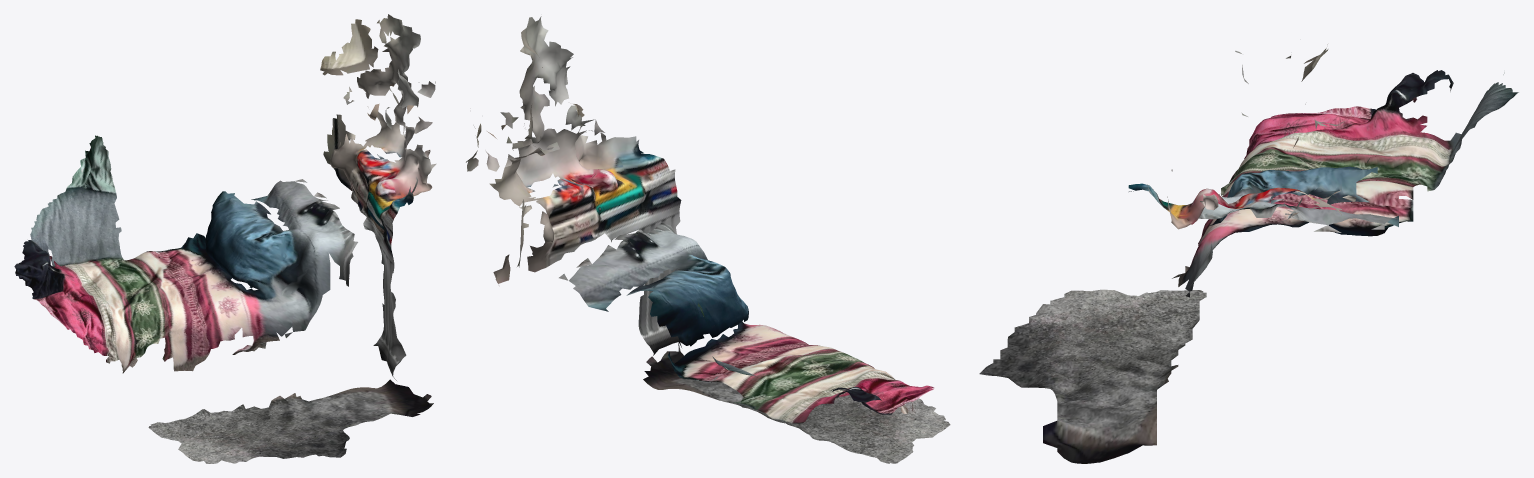
Rendered from 145166-aprilrum-tex.glb.
3 views of the same model, side by side, from view 1: azimuth 30°, elevation 25°; view 2: azimuth 150°, elevation 25°; view 3: azimuth 270°, elevation 25° (orthographic). The views are drawn at different scales.
Visible parts, largest first — view 1: Node; view 2: Node; view 3: Node.
Boxes of the visible parts, x1,y1,x2,y2 form: Node: [14, 14, 436, 463]; Node: [466, 16, 950, 463]; Node: [979, 44, 1518, 463].
Size of the model in its own units: 1.75 by 1.44 by 1.48.
Materials: 1 (1 with a texture image).
